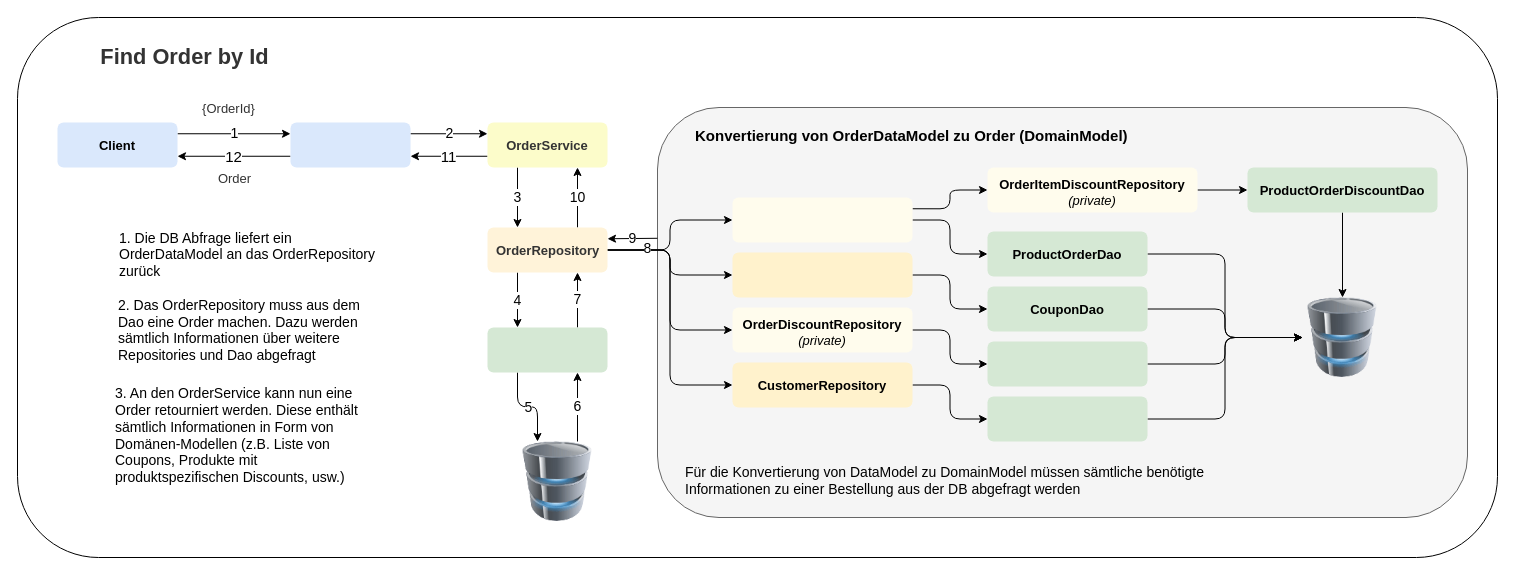
Some shapes in this 1515 by 575 pixel diagram are drawn without their labels. The shapes that lost their labels are listed below. From the top down, each one's centre as x and y in pixels, then its label:
At (350,144): "OrderAPI".
At (822,219): "OrderItemRepository (private)".
At (822,274): "CouponRepository".
At (547,349): "OrderDao".
At (1067,363): "OrderDiscountDao".
At (1067,418): "CustomerDao".
